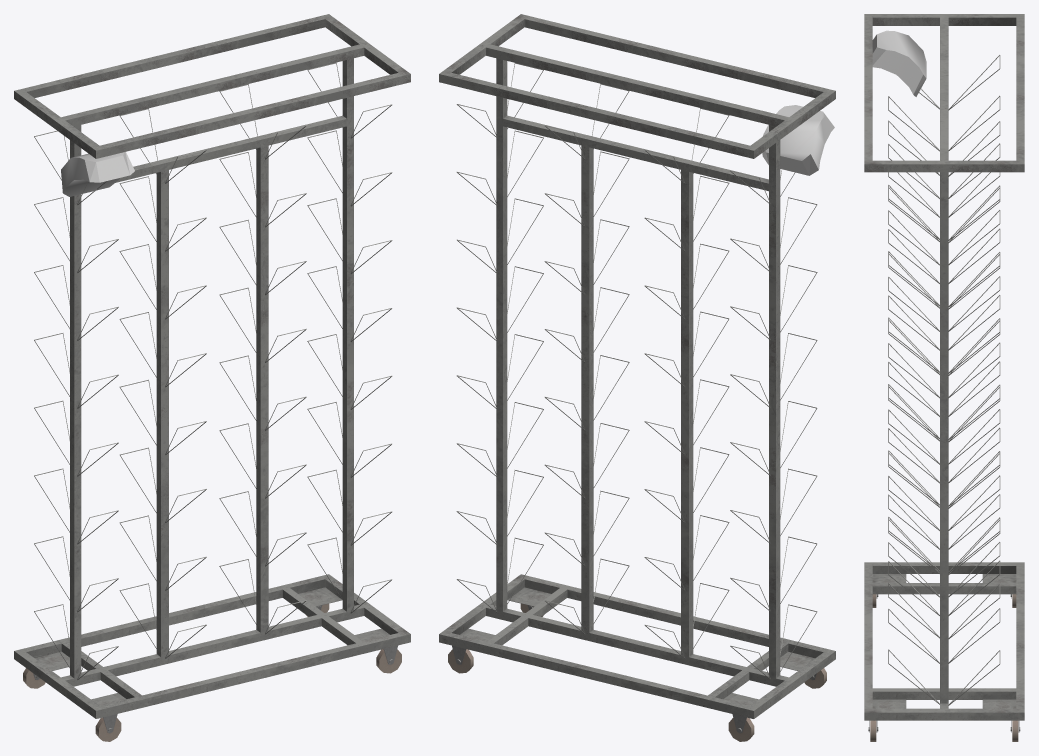
The model's file is qitou02.FBX.
3 renders of one model, left to right at view 1: azimuth 30°, elevation 25°; view 2: azimuth 150°, elevation 25°; view 3: azimuth 270°, elevation 25°, orthographic. The views are drawn at different scales.
Visible parts, largest first — view 1: YF_Model_0267; view 2: YF_Model_0267; view 3: YF_Model_0267.
Part boxes in pixels (bbox=[...]): YF_Model_0267: bbox=[14, 14, 410, 741]; YF_Model_0267: bbox=[439, 14, 835, 741]; YF_Model_0267: bbox=[864, 14, 1024, 741].
Bounding box in the file's own units: 103 × 181 × 45.08.
Materials: 1 (1 with a texture image).
